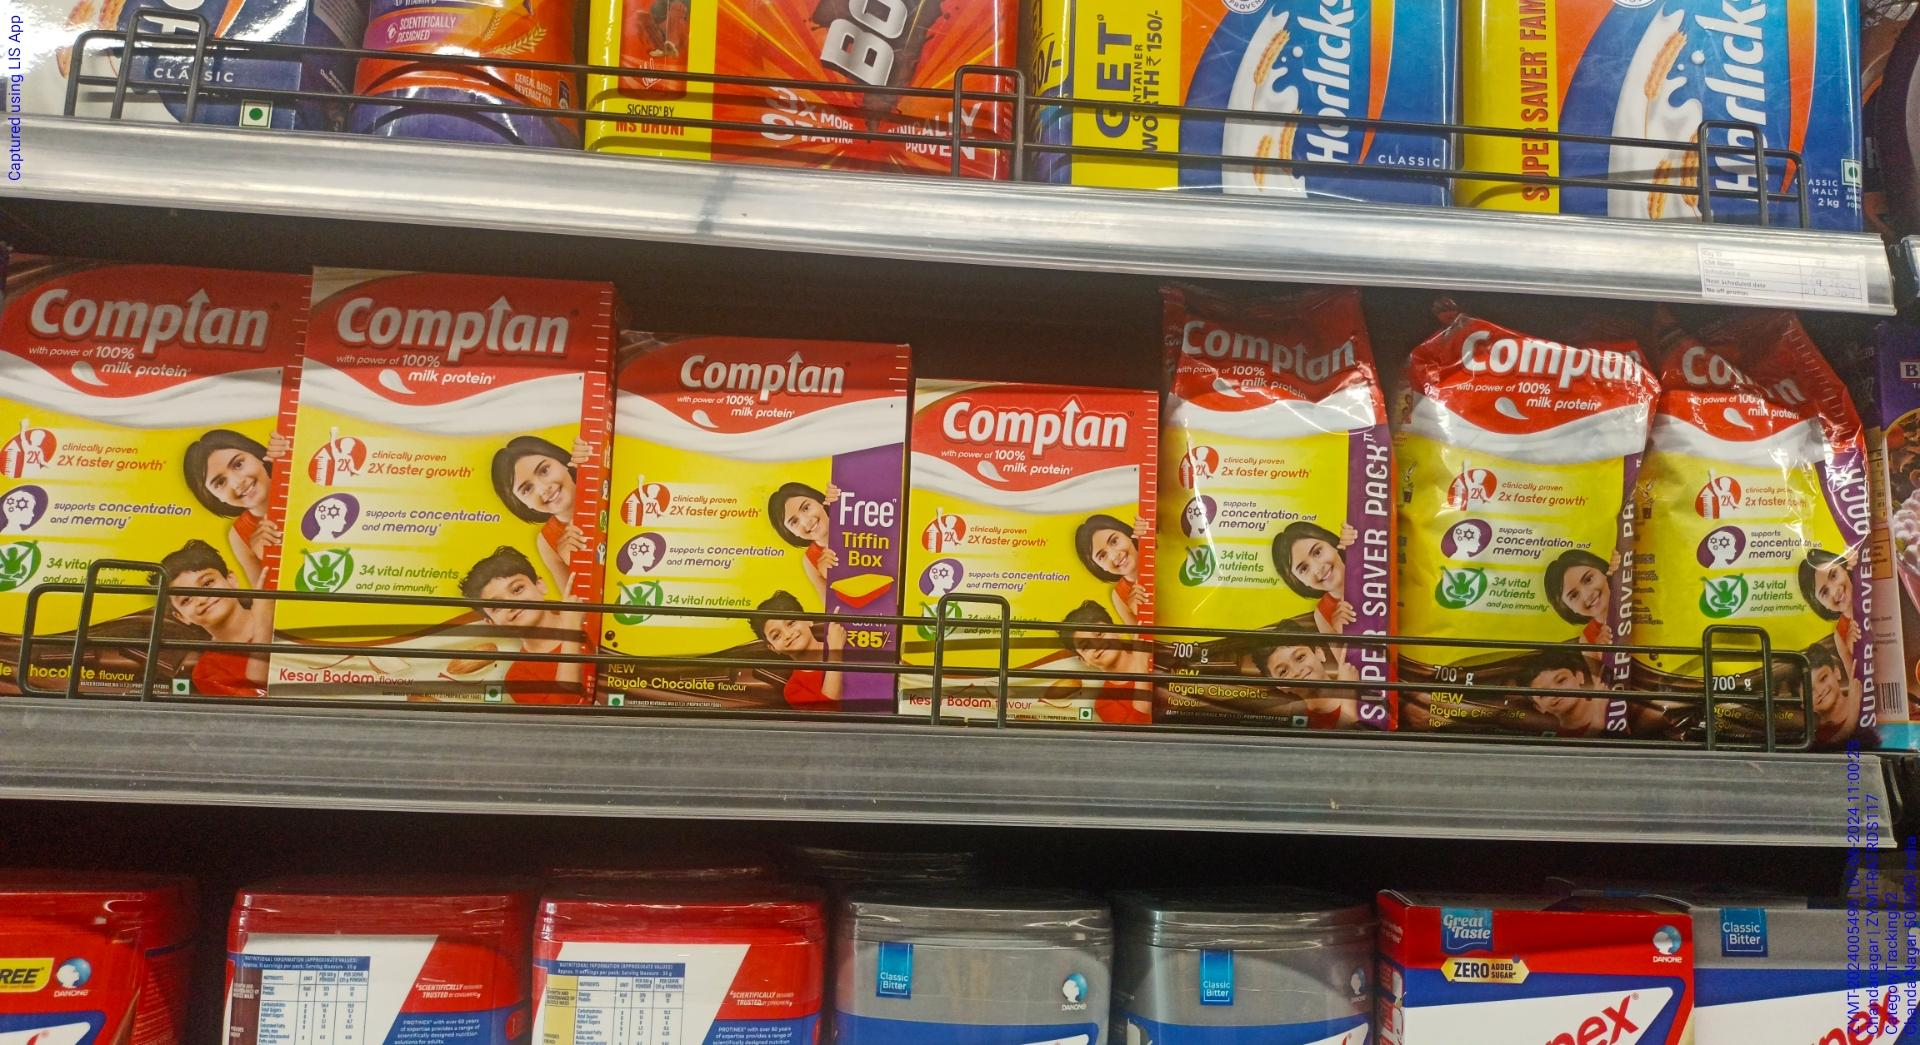COMPLAN_KESAR_BADAM_200_GMS_PACK: (912, 375, 1156, 728)
COMPLAN_KESAR_BADAM_500_GMS_PACK: (288, 268, 589, 714)
COMPLAN_RC_POUCH_700_GMS_12: (1170, 286, 1400, 730), (1652, 310, 1872, 750), (1425, 318, 1630, 746)
